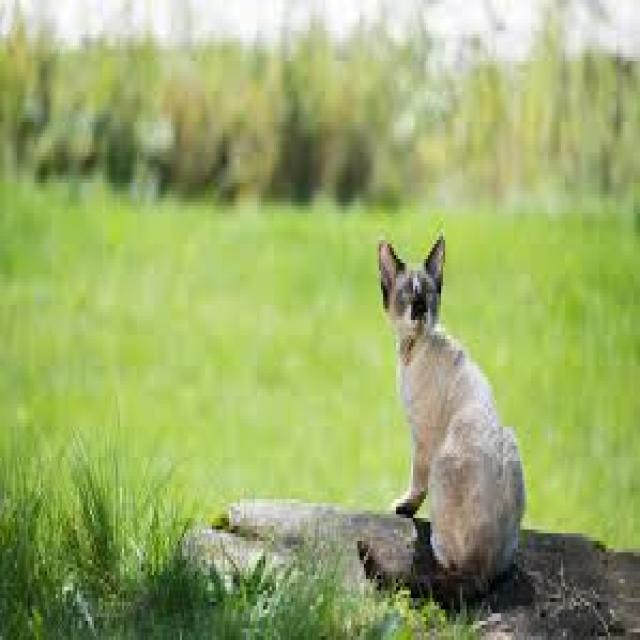Cat: (354, 231, 528, 608)
